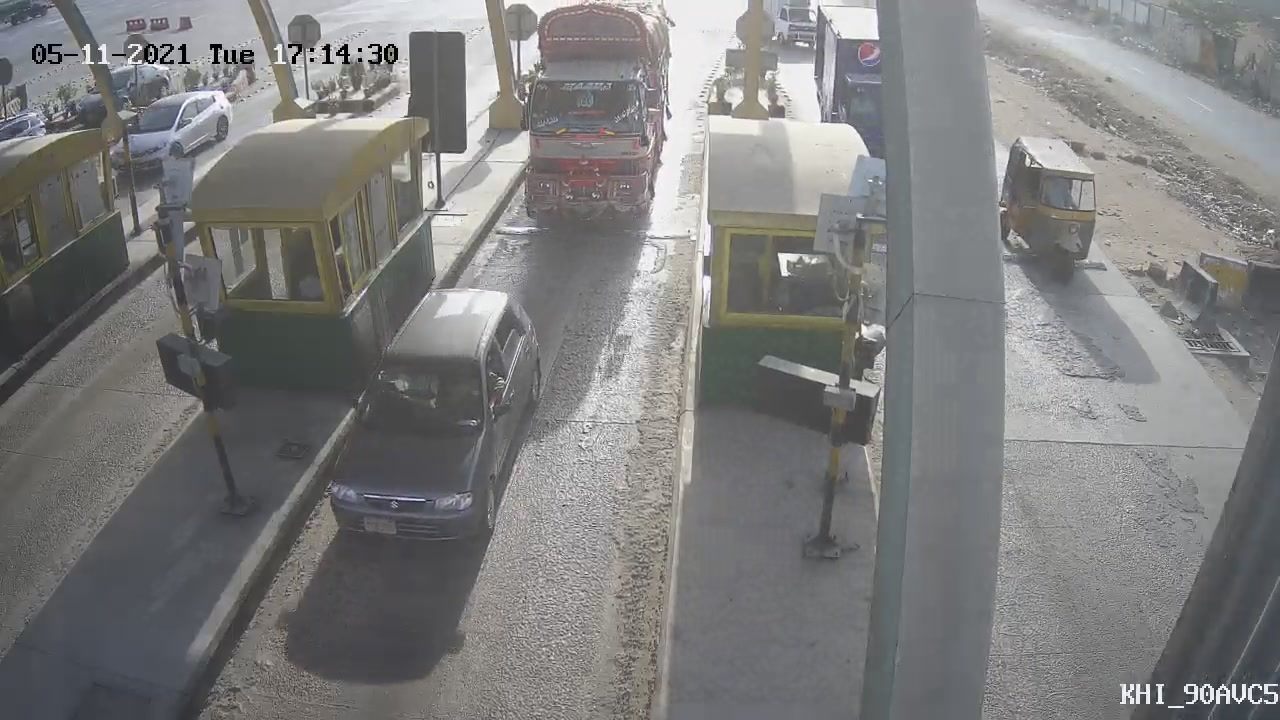F1: (292, 273, 563, 569)
F5: (519, 4, 684, 253)
